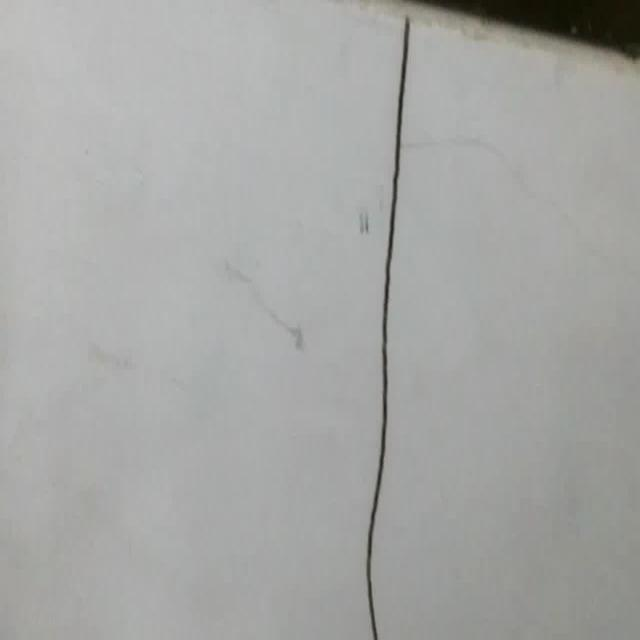Crack: (346, 0, 429, 630), (404, 92, 616, 252)
